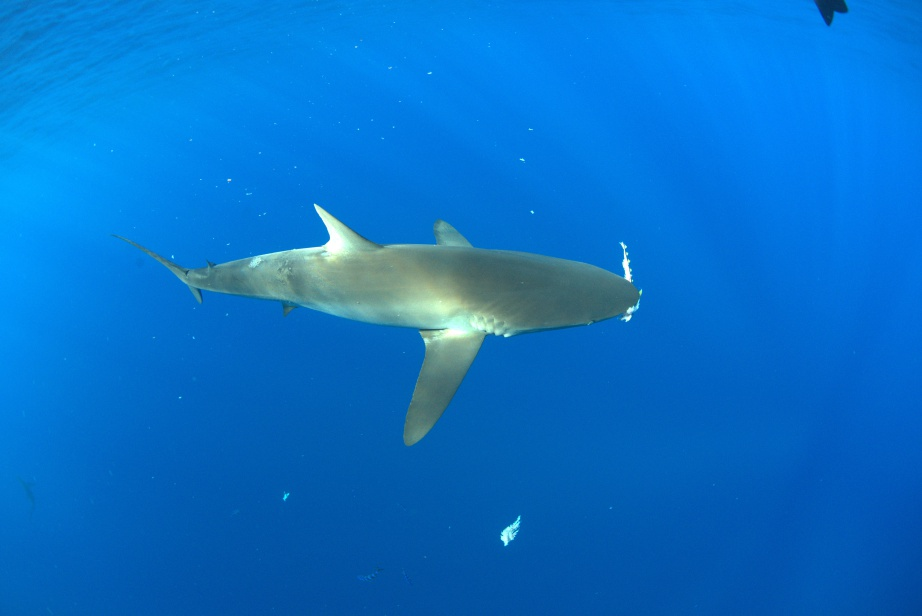Sedoso: (79, 192, 662, 454)
